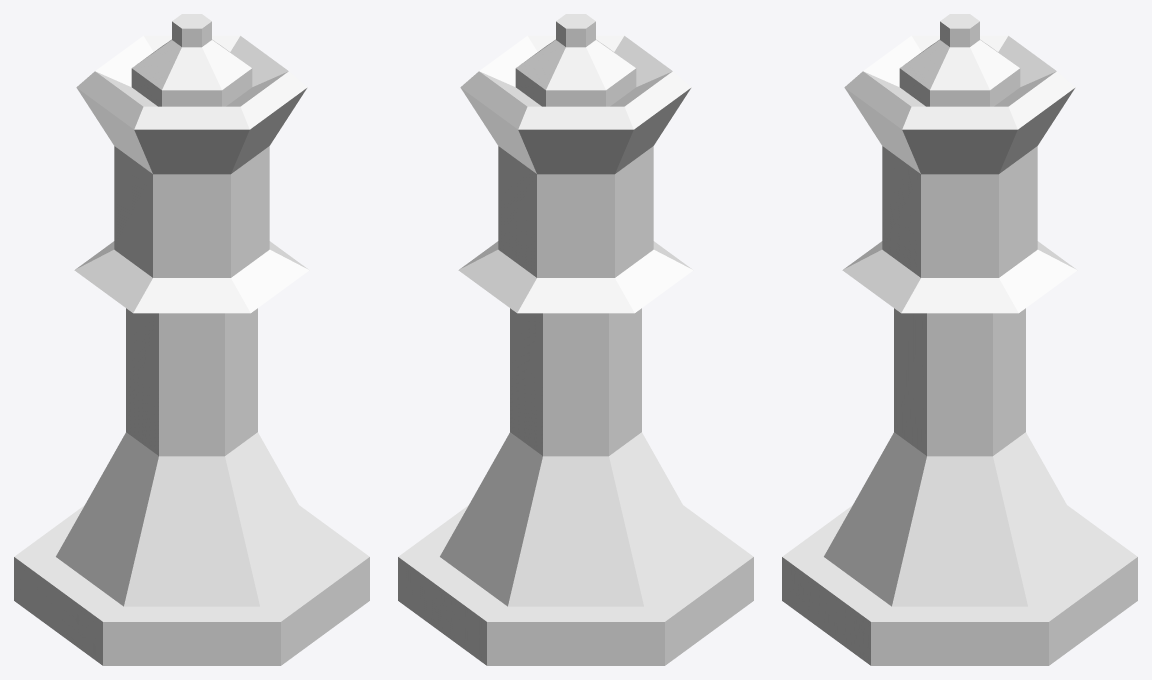
File: chesspiecequeen01.obj
The picture shows the model from 3 angles, left to right: view 1: azimuth 30°, elevation 25°; view 2: azimuth 150°, elevation 25°; view 3: azimuth 270°, elevation 25°; orthographic projection.
Visible parts, largest first — view 1: Cylinder.001_Cylinder.005; view 2: Cylinder.001_Cylinder.005; view 3: Cylinder.001_Cylinder.005.
Part boxes in pixels (left/top/right/bottom): Cylinder.001_Cylinder.005: left=14, top=14, right=369, bottom=665; Cylinder.001_Cylinder.005: left=398, top=14, right=753, bottom=665; Cylinder.001_Cylinder.005: left=782, top=14, right=1137, bottom=665.
Size of the model in its own units: 0.0225 by 0.0467 by 0.026.
